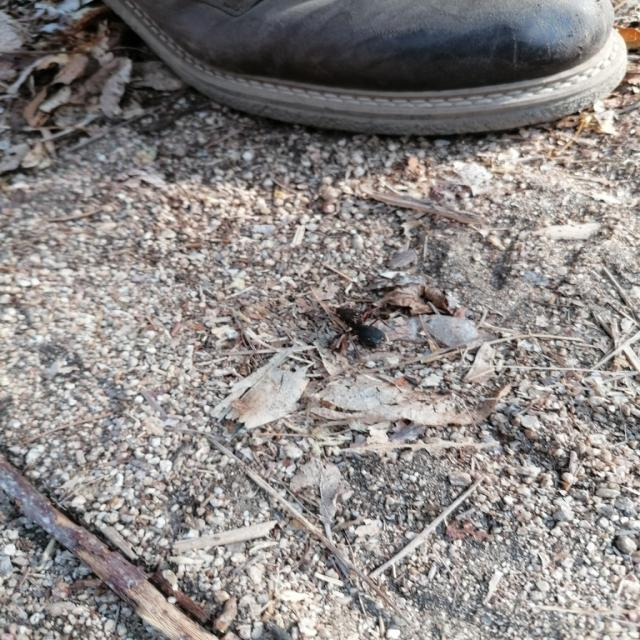Alive-Female-Dealate: (316, 297, 406, 360)
